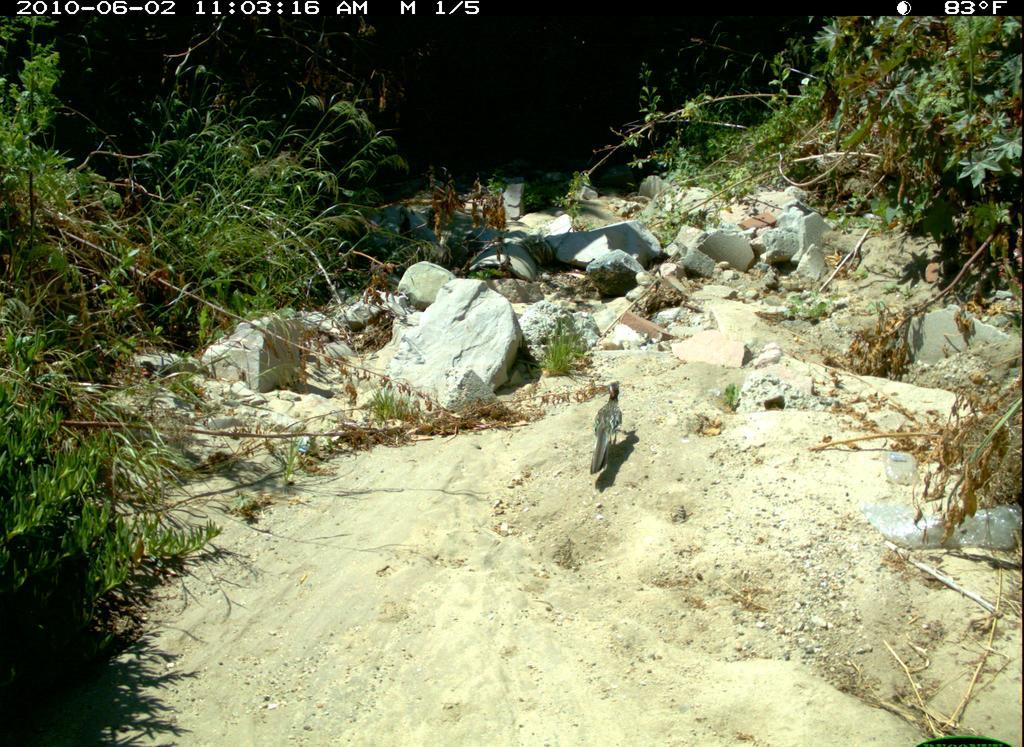bird: (581, 373, 647, 500)
